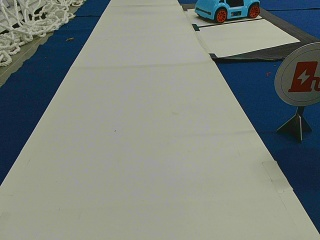battery: (275, 41, 319, 108)
car: (196, 0, 260, 22)
